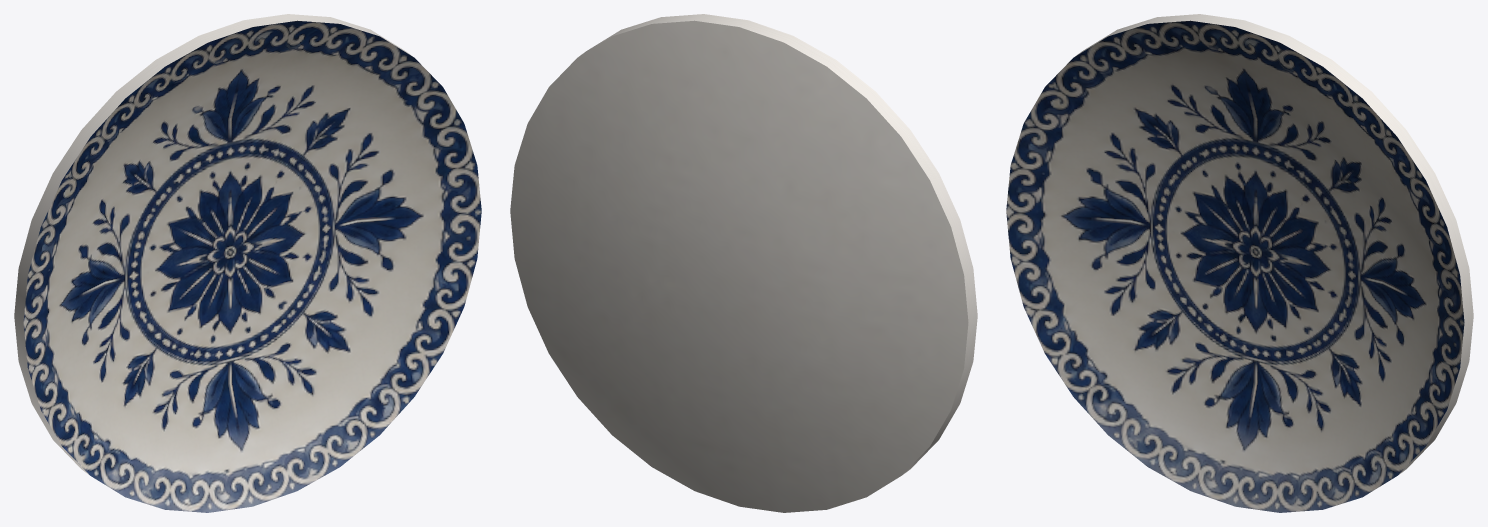
Rendered from Piring2.fbx.
3 renders of one model, left to right at view 1: azimuth 30°, elevation 25°; view 2: azimuth 150°, elevation 25°; view 3: azimuth 330°, elevation 25°, orthographic.
Visible parts, largest first — view 1: Piring1; view 2: Piring1; view 3: Piring1.
Boxes of the visible parts, <box> form: Piring1: <box>14,14,481,512</box>; Piring1: <box>510,14,977,512</box>; Piring1: <box>1006,14,1473,512</box>.
Bounding box in the file's own units: 60.57 × 60.57 × 6.22.
